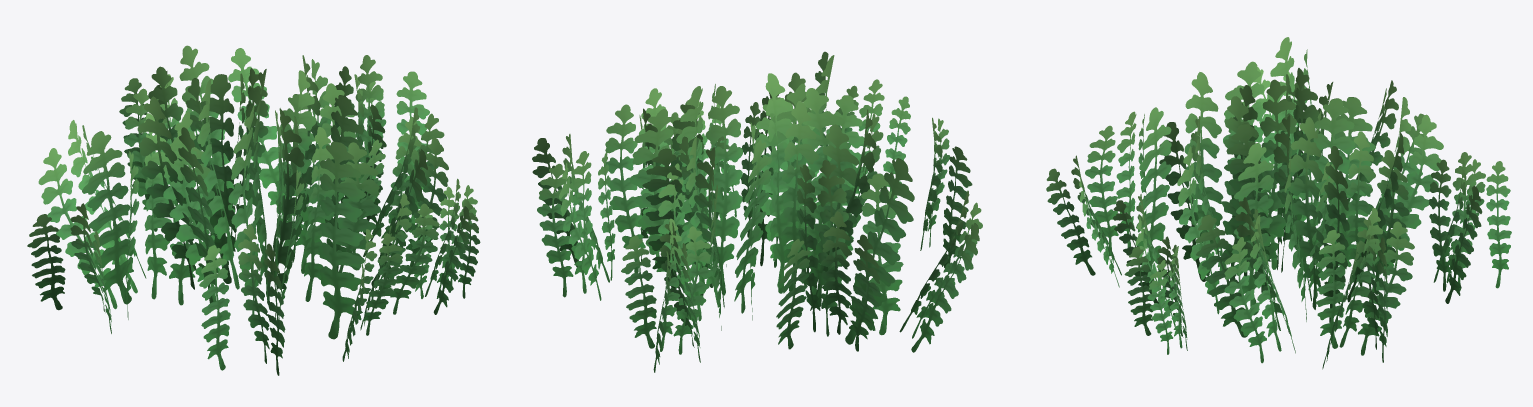
The model's file is SM_ENV_plant_ancient_01_03.fbx.
3 views of the same model, side by side, from view 1: azimuth 30°, elevation 25°; view 2: azimuth 150°, elevation 25°; view 3: azimuth 270°, elevation 25° (orthographic). The views are drawn at different scales.
Visible parts, largest first — view 1: SM_ENV_plant_ancient_01_03_LOD0; view 2: SM_ENV_plant_ancient_01_03_LOD0; view 3: SM_ENV_plant_ancient_01_03_LOD0.
Boxes of the visible parts, x1,y1,x2,y2 form: SM_ENV_plant_ancient_01_03_LOD0: (27,45,480,375); SM_ENV_plant_ancient_01_03_LOD0: (532,51,982,372); SM_ENV_plant_ancient_01_03_LOD0: (1046,37,1511,369).
Size of the model in its own units: 85.17 by 44.98 by 83.34.
